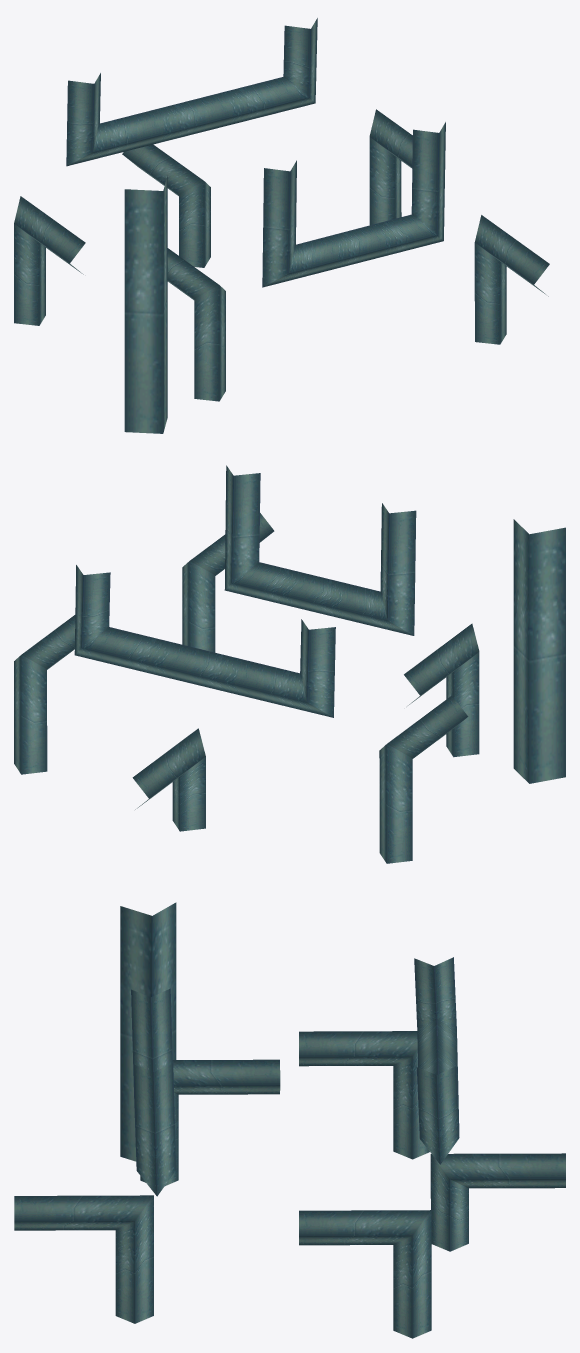
3 renders of one model, top to bottom at view 1: azimuth 30°, elevation 25°; view 2: azimuth 150°, elevation 25°; view 3: azimuth 270°, elevation 25°, orthographic. The views are drawn at different scales.
Parts seen in each view (by area): view 1: Object05; view 2: Object05; view 3: Object05.
Boxes of the visible parts, bbox=[...] form: Object05: bbox=[14, 18, 549, 433]; Object05: bbox=[14, 465, 565, 863]; Object05: bbox=[14, 902, 565, 1338].
Bounding box in the file's own units: 6607 × 3762 × 7503.
1 material, 1 textured.
